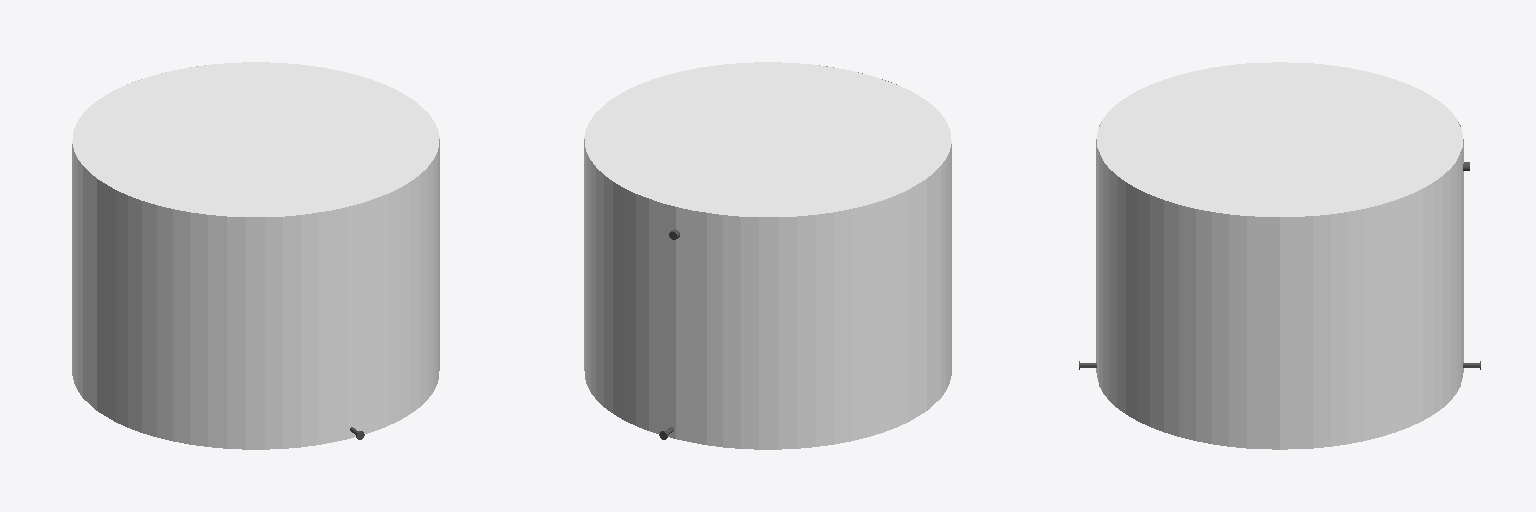
The model's file is UASB-fanyingqi.obj.
3 renders of one model, left to right at view 1: azimuth 30°, elevation 25°; view 2: azimuth 150°, elevation 25°; view 3: azimuth 270°, elevation 25°, orthographic.
Parts seen in each view (by area): view 1: NONE_DC_Brep; view 2: NONE_DC_Brep; view 3: NONE_DC_Brep.
Part boxes in pixels (x1,y1,x2,y2): NONE_DC_Brep: (72,62,439,449); NONE_DC_Brep: (584,62,951,449); NONE_DC_Brep: (1079,62,1480,449).
Size of the model in its own units: 8600 by 6000 by 9400.